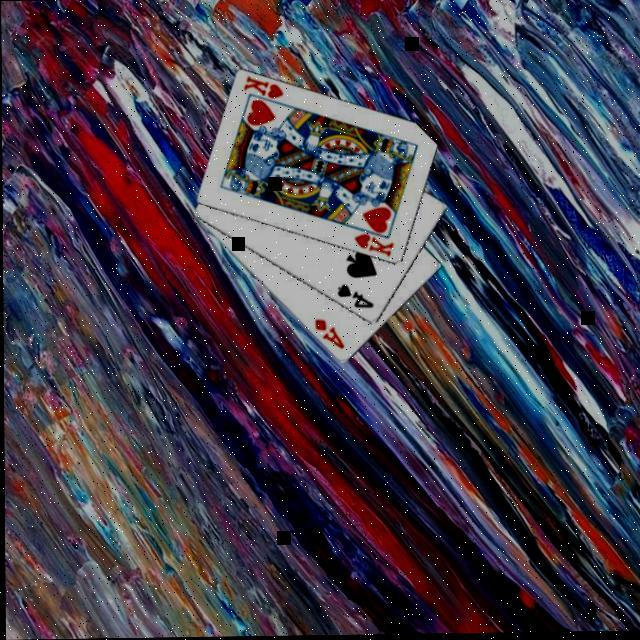4S: (334, 280, 376, 310)
AD: (312, 315, 348, 351)
KH: (352, 228, 398, 260), (242, 72, 288, 101)
